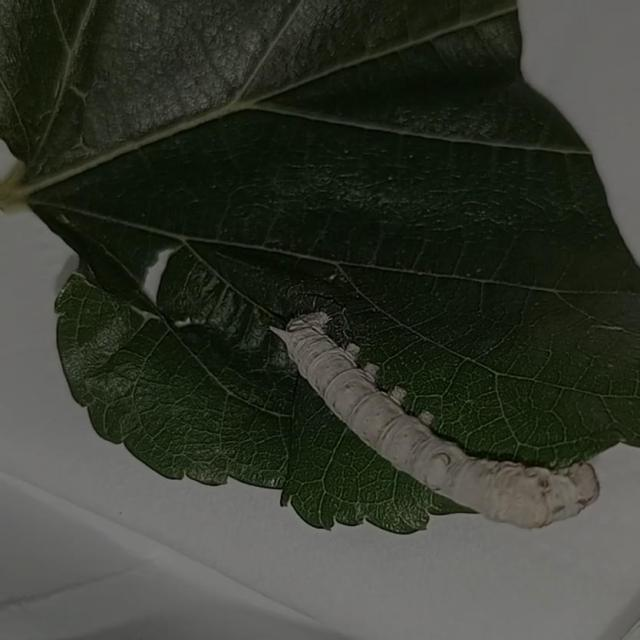Healthy: (260, 296, 606, 550)
